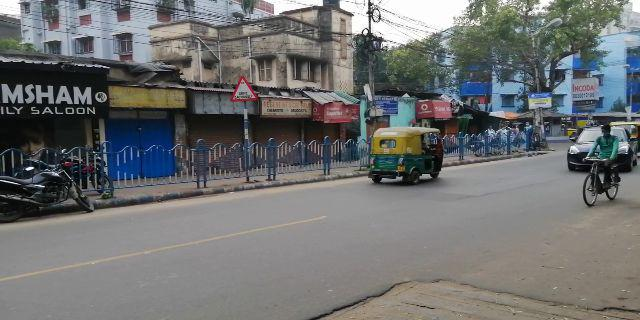Autorickshaw: (368, 130, 448, 188)
Car: (565, 125, 635, 172)
Cycle: (582, 122, 624, 209)
Motorbike: (1, 157, 99, 222)
